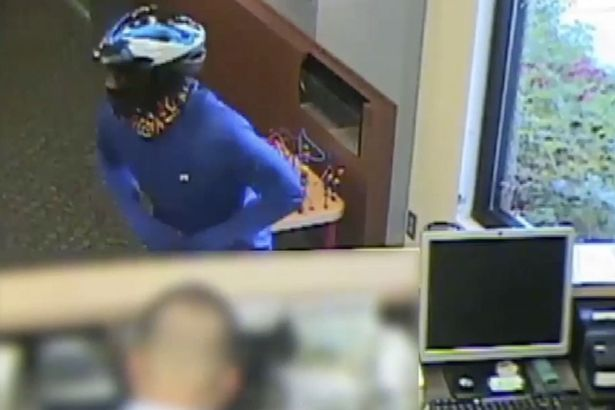helmet: (82, 1, 214, 125)
